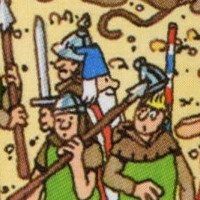wb: (80, 42, 120, 99)
